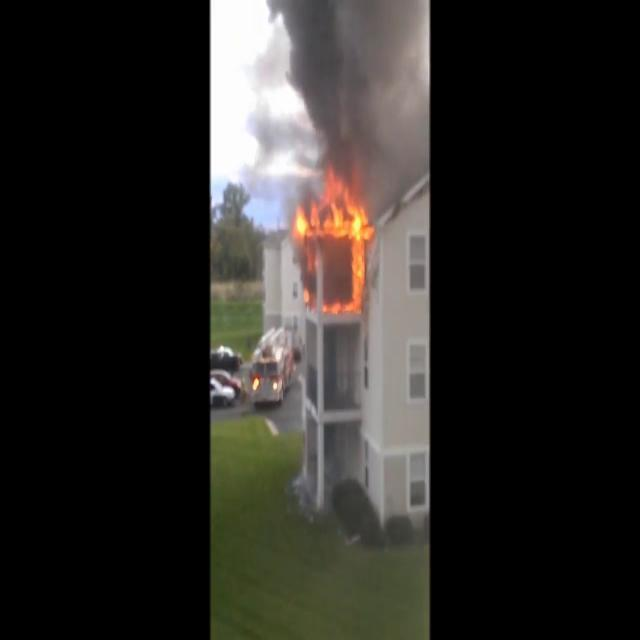Fire: (294, 173, 374, 302)
Smoke: (225, 1, 430, 195)
